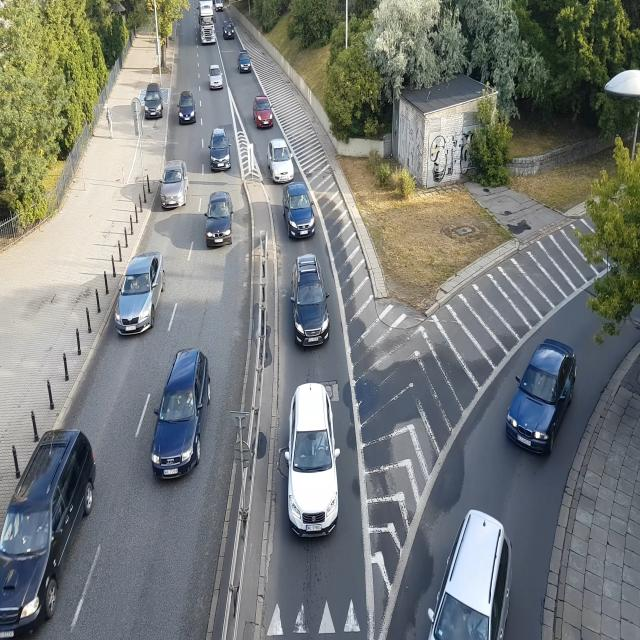car: (0, 431, 97, 637), (433, 490, 519, 640), (282, 378, 344, 545), (505, 338, 577, 456), (148, 352, 208, 481), (114, 250, 166, 336), (282, 184, 316, 240), (206, 192, 235, 248), (161, 162, 189, 212), (268, 137, 296, 185), (210, 129, 232, 174), (254, 98, 276, 130), (143, 89, 165, 119), (178, 92, 198, 124), (210, 64, 225, 90), (236, 54, 252, 72), (223, 23, 237, 38)
truck: (196, 3, 217, 47)
